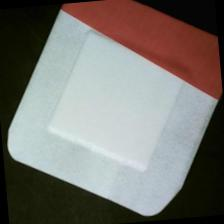Dressing: (1, 1, 224, 224)
Red_T: (59, 1, 224, 119)
